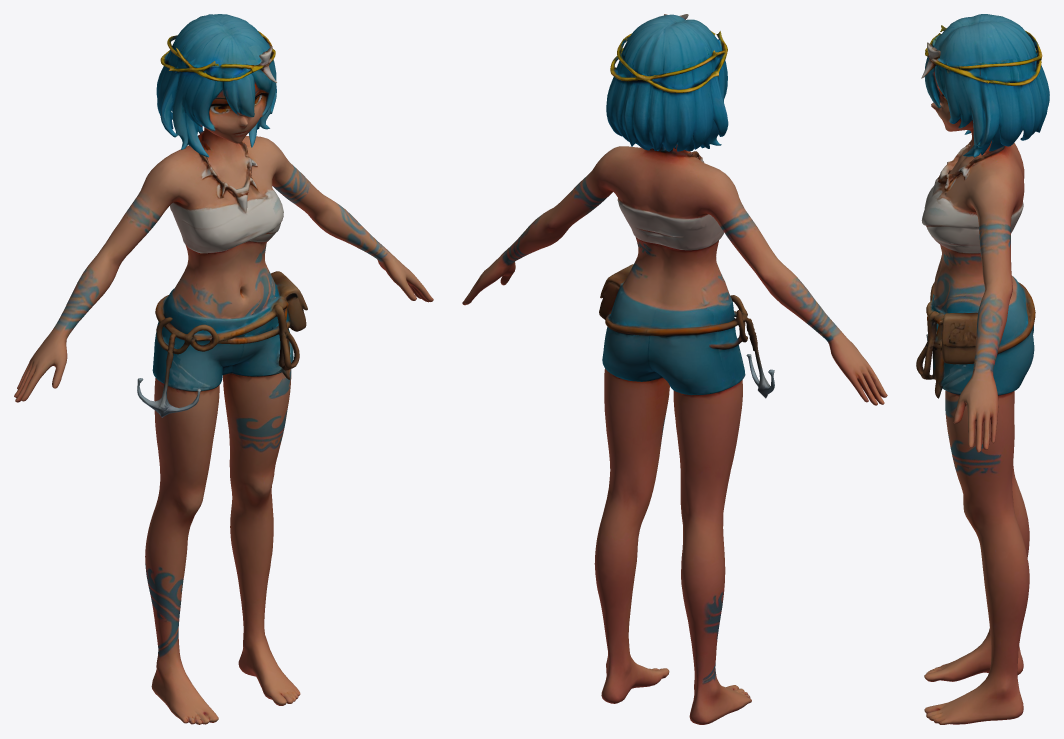
The model's file is mala.fbx.
3 views of the same model, side by side, from view 1: azimuth 30°, elevation 25°; view 2: azimuth 150°, elevation 25°; view 3: azimuth 270°, elevation 25° (orthographic).
Visible parts, largest first — view 1: tripo_node_d9fda58a; view 2: tripo_node_d9fda58a; view 3: tripo_node_d9fda58a.
Part boxes in pixels (x1,y1,x2,y2): tripo_node_d9fda58a: (14, 14, 433, 724); tripo_node_d9fda58a: (462, 14, 887, 724); tripo_node_d9fda58a: (916, 14, 1049, 724).
Size of the model in its own units: 64.4 by 17.86 by 99.95.
1 material, 1 textured.
